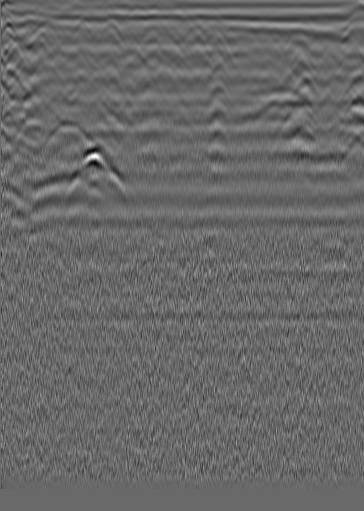가스: (70, 145, 115, 185)
상수: (293, 26, 313, 46)
오수: (28, 13, 59, 43)
우수: (183, 22, 203, 42)
